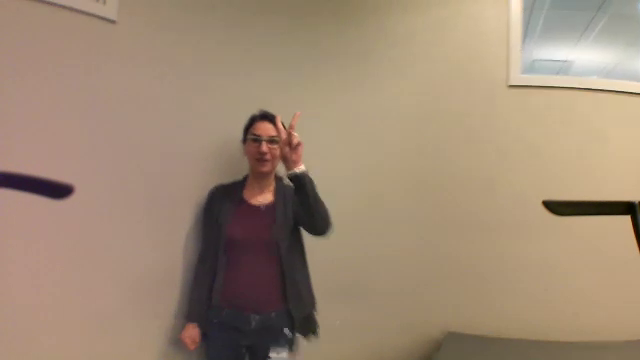peace: (269, 109, 309, 167)
